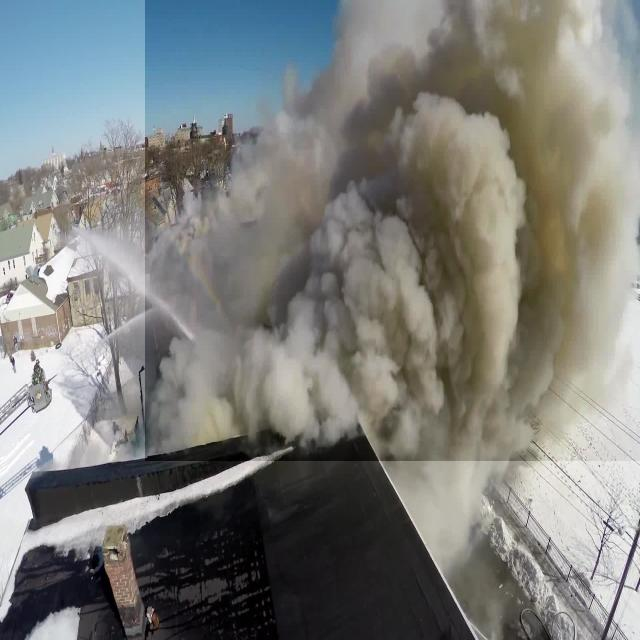Smoke: (145, 0, 640, 461)
